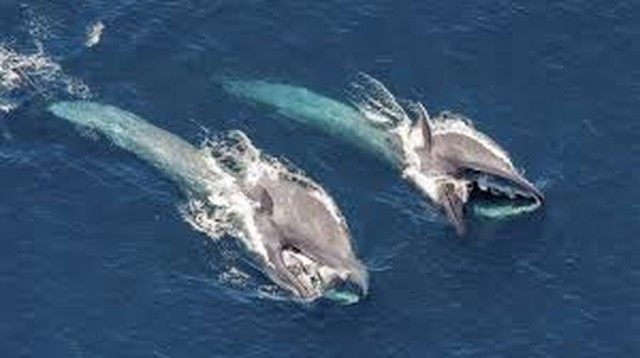whale: (47, 96, 369, 311), (212, 70, 549, 241)
